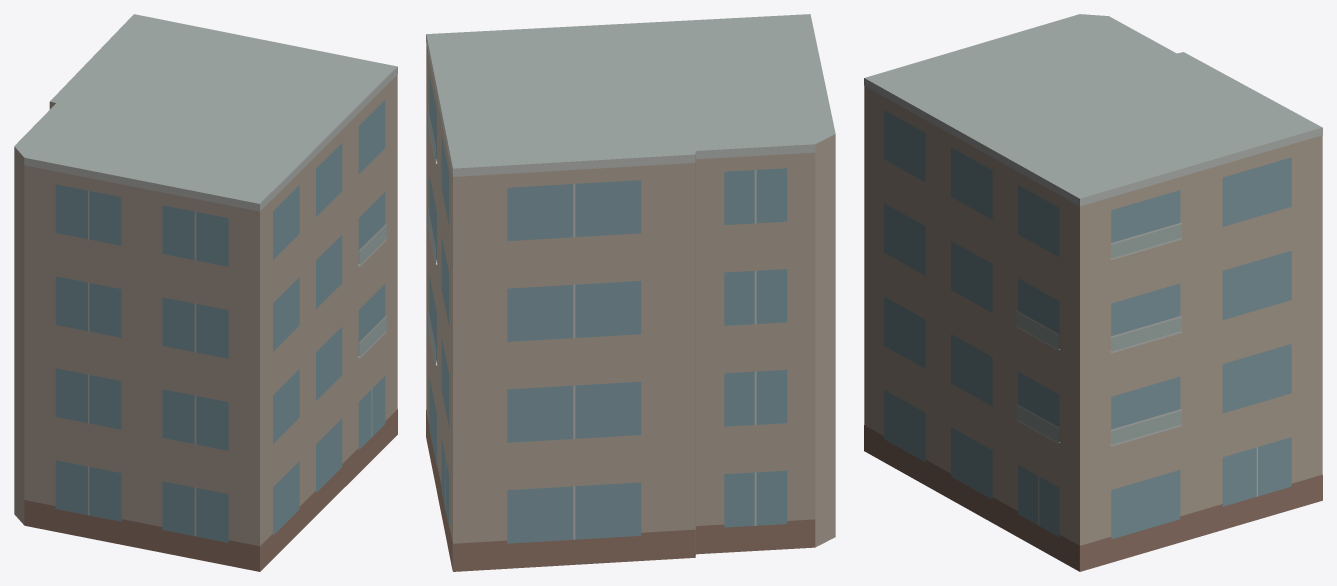
Rendered from survey-upis-32962669.glb.
3 renders of one model, left to right at view 1: azimuth 30°, elevation 25°; view 2: azimuth 150°, elevation 25°; view 3: azimuth 270°, elevation 25°, orthographic. The views are drawn at different scales.
Visible parts, largest first — view 1: survey-upis-32962669.tmp; view 2: survey-upis-32962669.tmp; view 3: survey-upis-32962669.tmp.
Part boxes in pixels (x1,y1,x2,y2): survey-upis-32962669.tmp: (14,14,397,571); survey-upis-32962669.tmp: (426,14,835,571); survey-upis-32962669.tmp: (864,14,1322,571).
Bounding box in the file's own units: 12.6 × 11.85 × 13.21.
